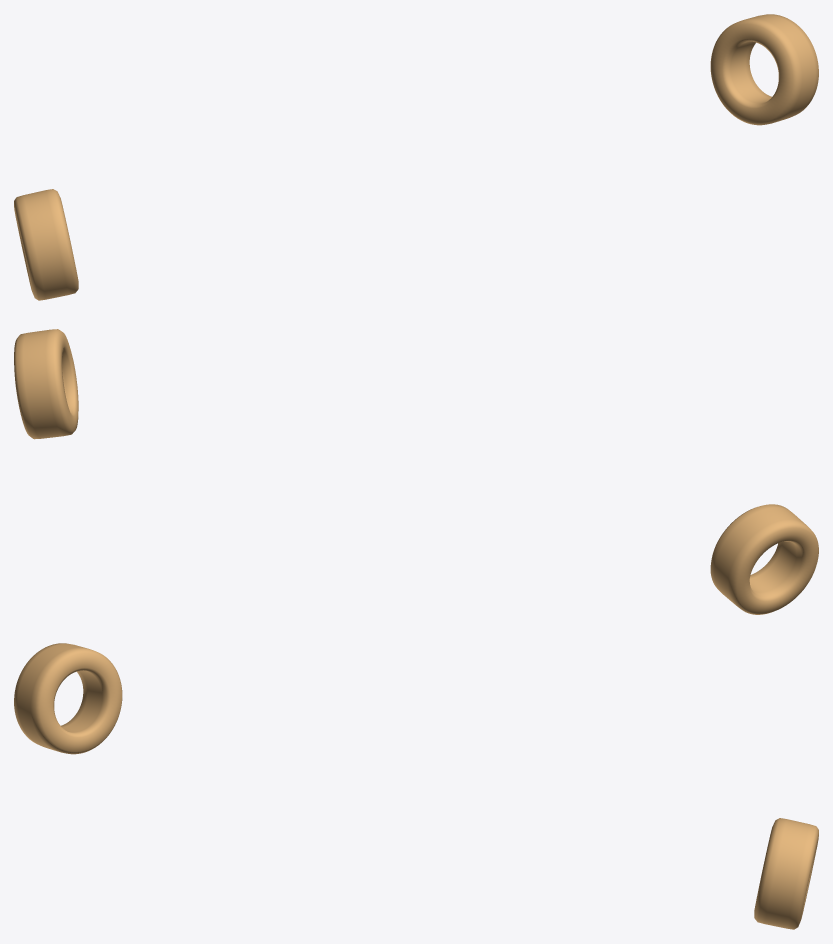
Rendered from earings2.glb.
The picture shows the model from 3 angles, top to bottom: view 1: azimuth 30°, elevation 25°; view 2: azimuth 150°, elevation 25°; view 3: azimuth 330°, elevation 25°; orthographic projection.
Parts seen in each view (by area): view 1: earrings.002; view 2: earrings.002; view 3: earrings.002.
Boxes of the visible parts, left/top/right/bottom form: earrings.002: left=14, top=14, right=818, bottom=300; earrings.002: left=14, top=329, right=818, bottom=614; earrings.002: left=14, top=643, right=818, bottom=929.
Bounding box in the file's own units: 1.37 × 0.167 × 0.1686.
Materials: 1 (1 with a texture image).
